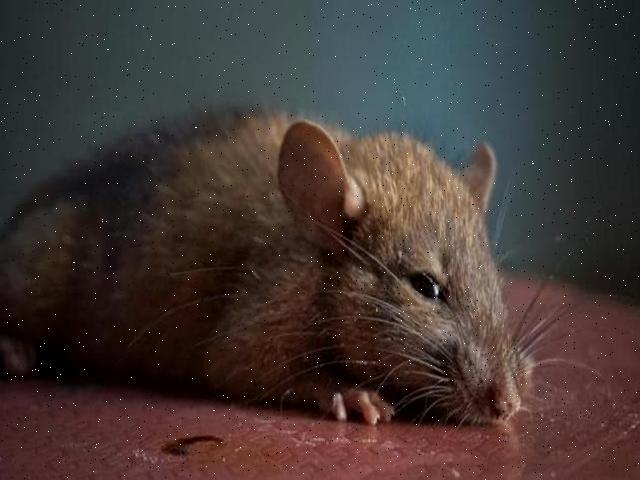Tikus: (12, 94, 556, 428)
